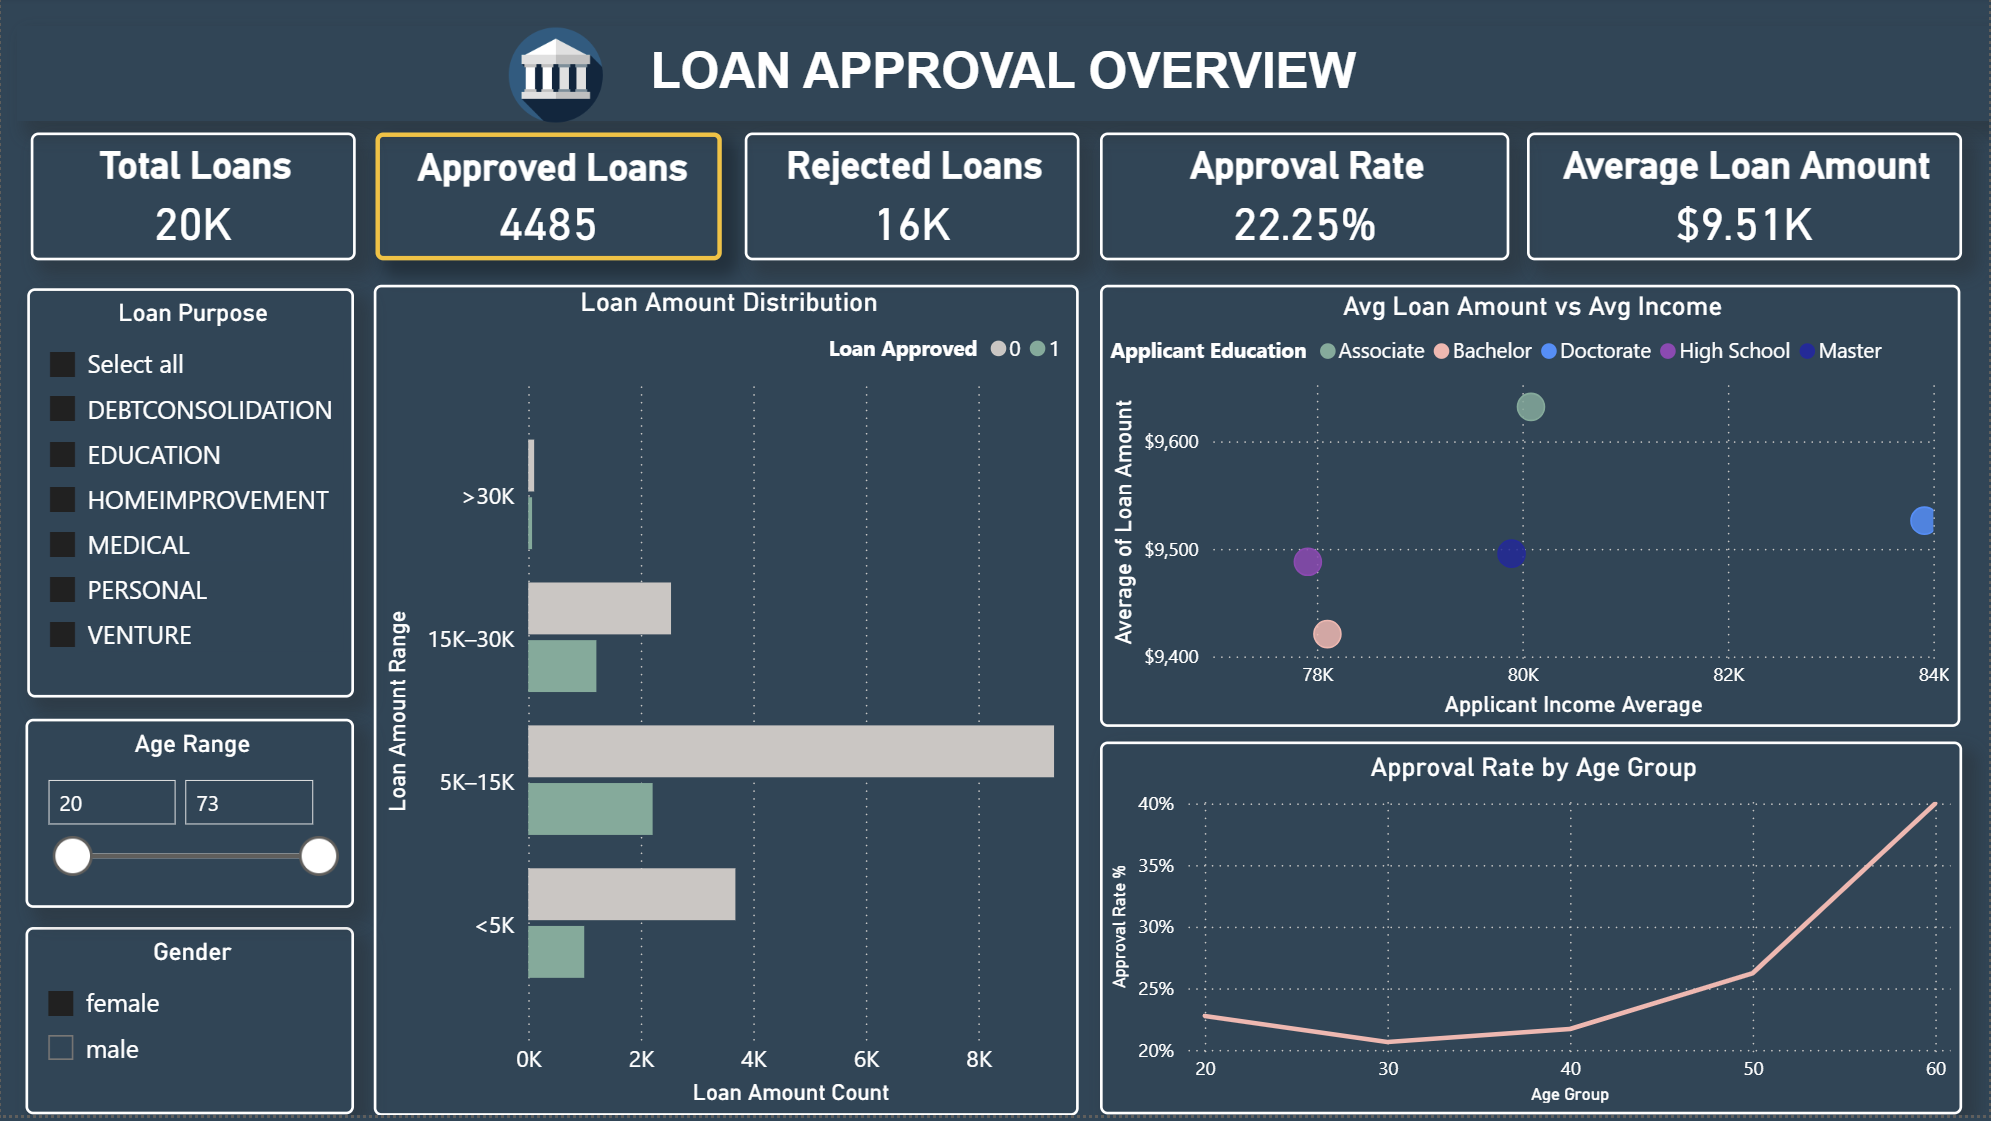

Layout of this report page (visuals, bound fields, positions):
{"tool":"powerbi","page":{"name":"Page 1","canvas":[1280,720],"ordinal":0},"visuals":[{"type":"textbox","box":[10.4,19.3,1269.4,60.9],"z":0},{"type":"card","title":"Total Loans","fields":{"Values":["CountNonNull(loan_data_dashbboard.loan_status)"]},"box":[19.2,88.2,209,82.1],"z":1000},{"type":"card","title":"Approved Loans","fields":{"Values":["CountNonNull(loan_data_dashbboard.loan_status)"]},"box":[240.6,88.2,222.6,82.1],"z":2000},{"type":"card","title":"Rejected Loans","fields":{"Values":["CountNonNull(loan_data_dashbboard.loan_status)"]},"box":[478.8,88.3,215.2,82.1],"z":3000},{"type":"card","title":"Approval Rate","fields":{"Values":["loan_data_dashbboard.Approval Rate %"]},"box":[707.7,88.3,263.7,82.1],"z":4000},{"type":"card","title":"Average Loan Amount","fields":{"Values":["Avg(loan_data_dashbboard.loan_amnt)"]},"box":[982.3,88.3,279.8,82.1],"z":5000},{"type":"slicer","title":"Gender","fields":{"Values":["loan_data_dashbboard.person_gender"]},"box":[16.2,599.5,211.4,120.6],"z":6000},{"type":"slicer","title":"Loan Purpose","fields":{"Values":["loan_data_dashbboard.loan_intent"]},"box":[17.4,187.8,210.2,263.7],"z":7000},{"type":"lineChart","title":"Approval Rate by Age Group","fields":{"Category":["loan_data_dashbboard.Age Group"],"Y":["loan_data_dashbboard.Approval Rate %"]},"box":[707.7,480.1,554.7,240],"z":8000},{"type":"image","box":[315.9,19.9,83.3,60.9],"z":9000},{"type":"slicer","title":"Age Range","fields":{"Values":["loan_data_dashbboard.person_age"]},"box":[16.2,465.2,211.4,121.9],"z":10000},{"type":"clusteredBarChart","title":"Loan Amount Distribution","fields":{"Category":["loan_data_dashbboard.Loan Amount Range"],"Series":["loan_data_dashbboard.loan_status"],"Y":["CountNonNull(loan_data_dashbboard.loan_amnt)"]},"box":[240,185.3,454,534.8],"z":11000},{"type":"scatterChart","title":"Avg Loan Amount vs Avg Income","fields":{"X":["Avg(loan_data_dashbboard.person_income_clipped)"],"Y":["Avg(loan_data_dashbboard.loan_amnt)"],"Series":["loan_data_dashbboard.person_education"]},"box":[707.7,185.3,553.5,284.8],"z":12000}]}

Visuals, with their boxes in screenshot pixels (x1, y1, x2, y2), scaled from the page's 1280x720 canvas onto the 1991x1121 screenshot:
textbox: detection(16, 30, 1990, 125)
"Total Loans" card: detection(30, 137, 355, 265)
"Approved Loans" card: detection(374, 137, 720, 265)
"Rejected Loans" card: detection(745, 137, 1079, 265)
"Approval Rate" card: detection(1101, 137, 1511, 265)
"Average Loan Amount" card: detection(1528, 137, 1963, 265)
"Gender" slicer: detection(25, 933, 354, 1120)
"Loan Purpose" slicer: detection(27, 292, 354, 703)
"Approval Rate by Age Group" lineChart: detection(1101, 747, 1964, 1120)
image: detection(491, 31, 621, 126)
"Age Range" slicer: detection(25, 724, 354, 914)
"Loan Amount Distribution" clusteredBarChart: detection(373, 289, 1079, 1120)
"Avg Loan Amount vs Avg Income" scatterChart: detection(1101, 289, 1962, 732)
